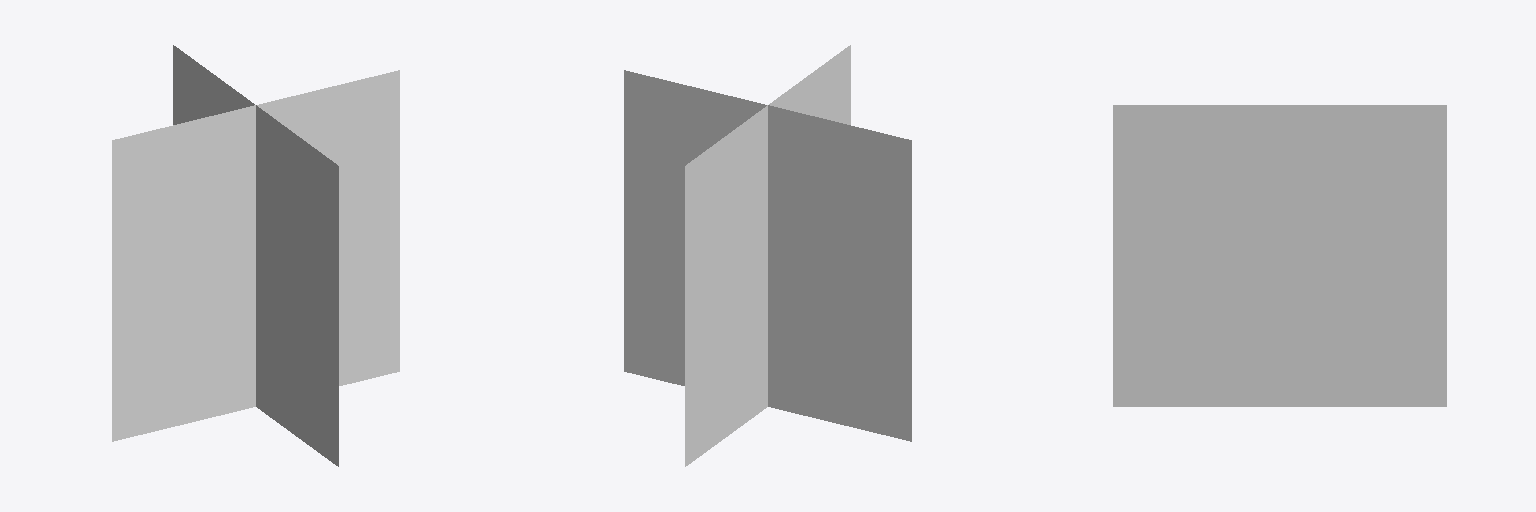
Rendered from Strawberry_Tree_Fan_0.obj.
3 renders of one model, left to right at view 1: azimuth 30°, elevation 25°; view 2: azimuth 150°, elevation 25°; view 3: azimuth 270°, elevation 25°, orthographic.
Parts seen in each view (by area): view 1: CreateFan; view 2: CreateFan; view 3: CreateFan.
Boxes of the visible parts, box(x1,y1,x2,y2) form: CreateFan: box(112, 45, 399, 466); CreateFan: box(624, 45, 911, 466); CreateFan: box(1113, 105, 1446, 406).
Size of the model in its own units: 7.51 by 7.5 by 7.51.